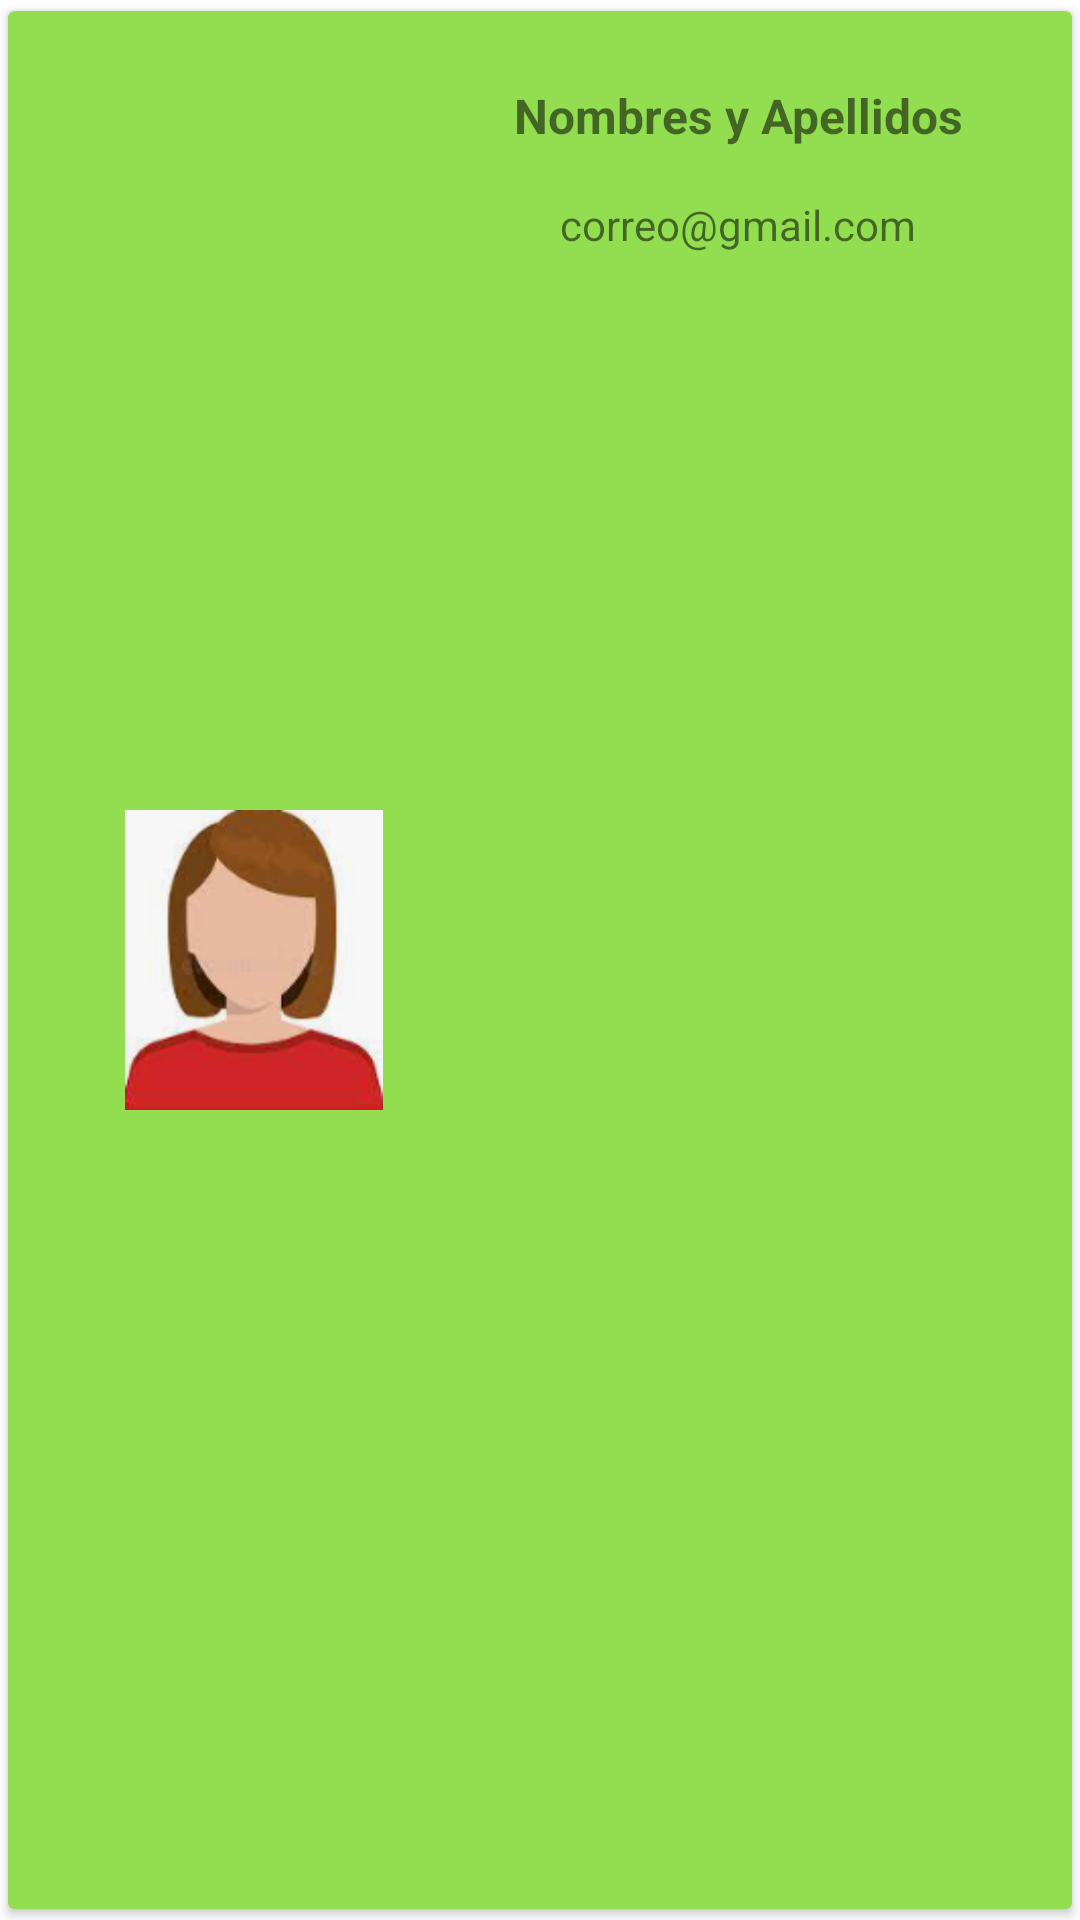

Point at icon controls on the screen. Image size 1080 x 1920, points as [x,y].
mujer: [254,960]
